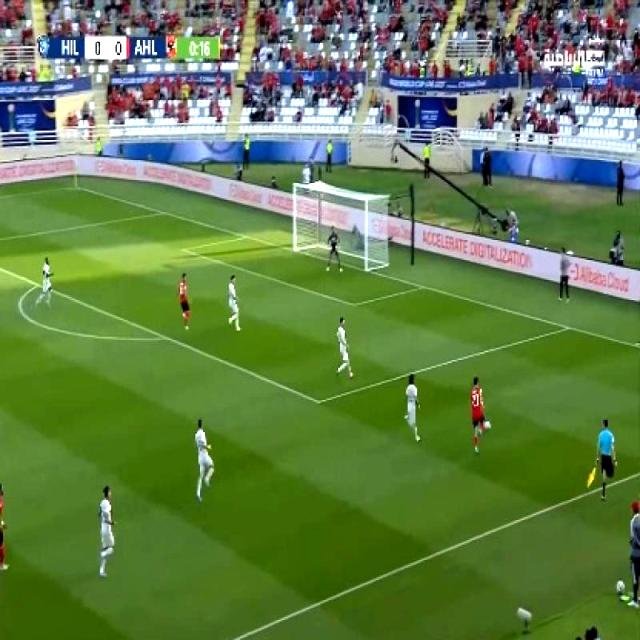bigarea_bottom_inner: (308, 386, 329, 416)
bigarea_bottom_outter: (557, 316, 577, 338)
bigarea_top_outter: (154, 204, 169, 219)
bottom_arc_area_intersection: (154, 324, 174, 348)
corner: (66, 178, 84, 192)
smallarea_bottom_inner: (344, 294, 362, 314)
smallarea_bottom_outter: (412, 277, 430, 295)
smallarea_top_inner: (175, 240, 192, 257)
smallarea_top_outter: (235, 228, 252, 242)
top_arc_area_intersection: (30, 276, 45, 292)
